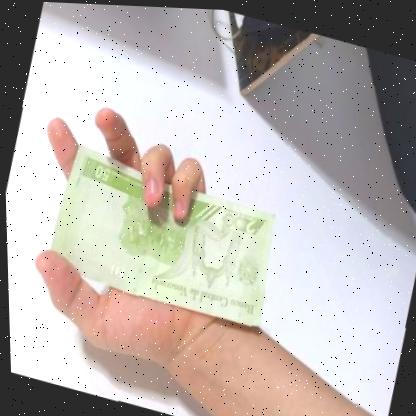fifty-back-vef: (40, 139, 288, 327)
